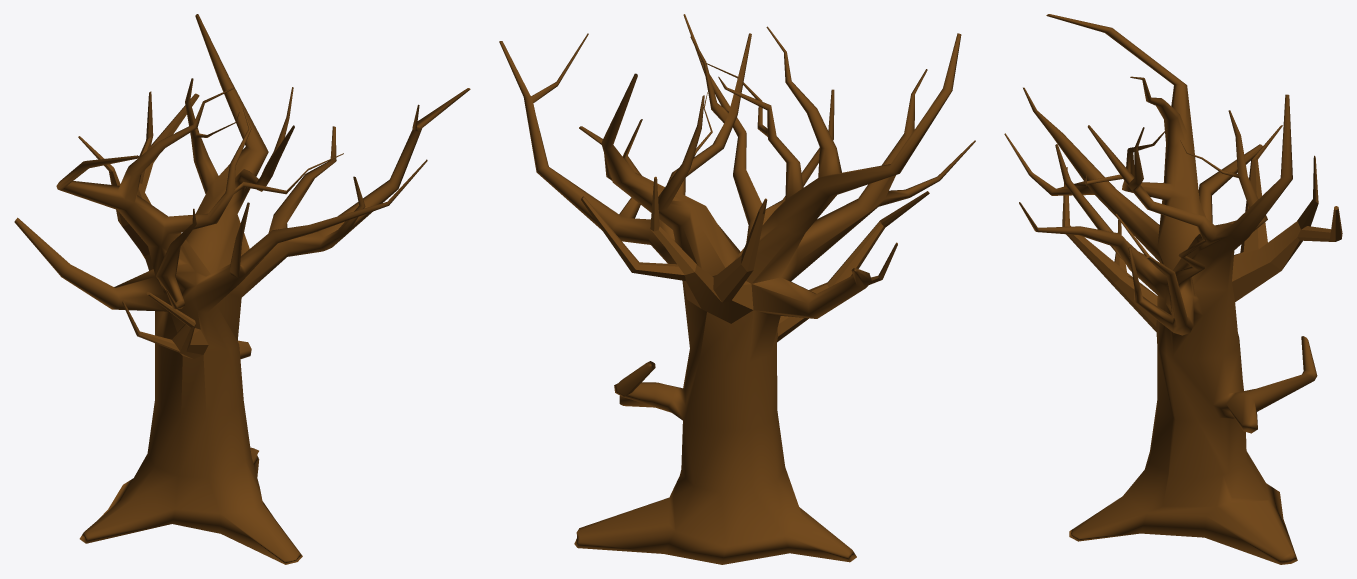
Rendered from tree.fbx.
The picture shows the model from 3 angles, left to right: view 1: azimuth 30°, elevation 25°; view 2: azimuth 150°, elevation 25°; view 3: azimuth 270°, elevation 25°; orthographic projection. The views are drawn at different scales.
Parts seen in each view (by area): view 1: pCylinder2; view 2: pCylinder2; view 3: pCylinder2.
Boxes of the visible parts, <box> form: pCylinder2: <box>14,14,470,564</box>; pCylinder2: <box>499,14,975,564</box>; pCylinder2: <box>1004,14,1342,564</box>.
Bounding box in the file's own units: 16.52 × 17.91 × 12.24.
